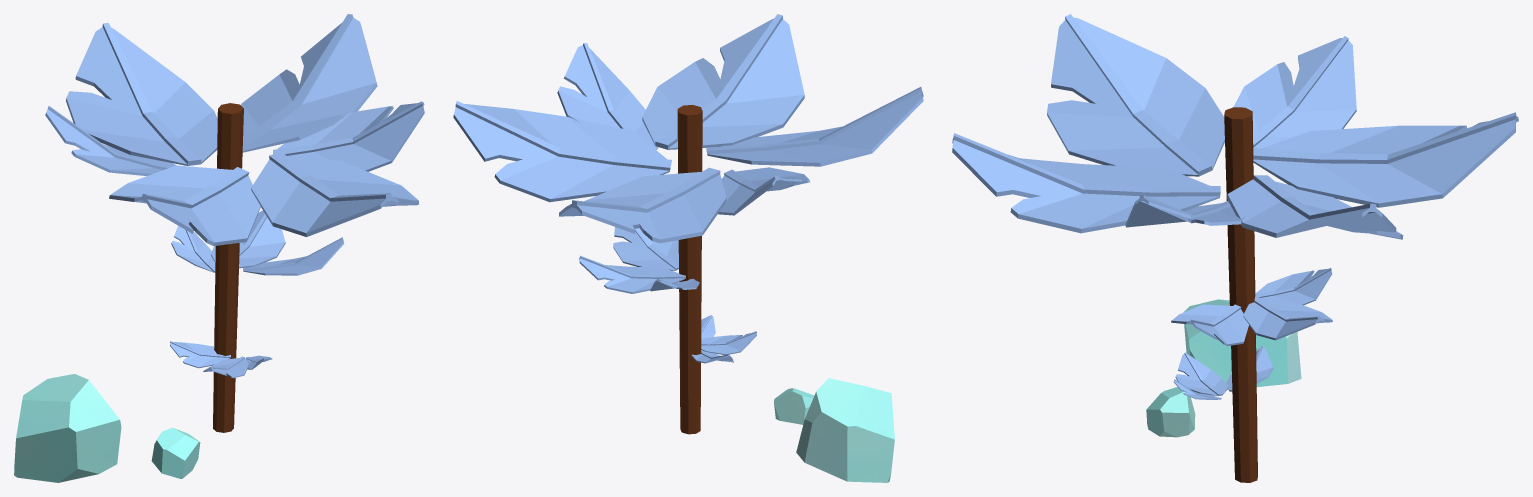
Rendered from leaves.fbx.
3 views of the same model, side by side, from view 1: azimuth 30°, elevation 25°; view 2: azimuth 150°, elevation 25°; view 3: azimuth 270°, elevation 25° (orthographic). The views are drawn at different scales.
Parts seen in each view (by area): view 1: leaves; view 2: leaves; view 3: leaves.
Boxes of the visible parts, bbox=[...] form: leaves: bbox=[14, 14, 424, 482]; leaves: bbox=[453, 14, 923, 482]; leaves: bbox=[952, 14, 1518, 482].
Bounding box in the file's own units: 67.1 × 53.52 × 72.88.
3 materials, 1 textured.
